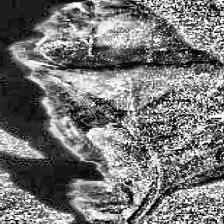disease: (12, 0, 224, 217)
